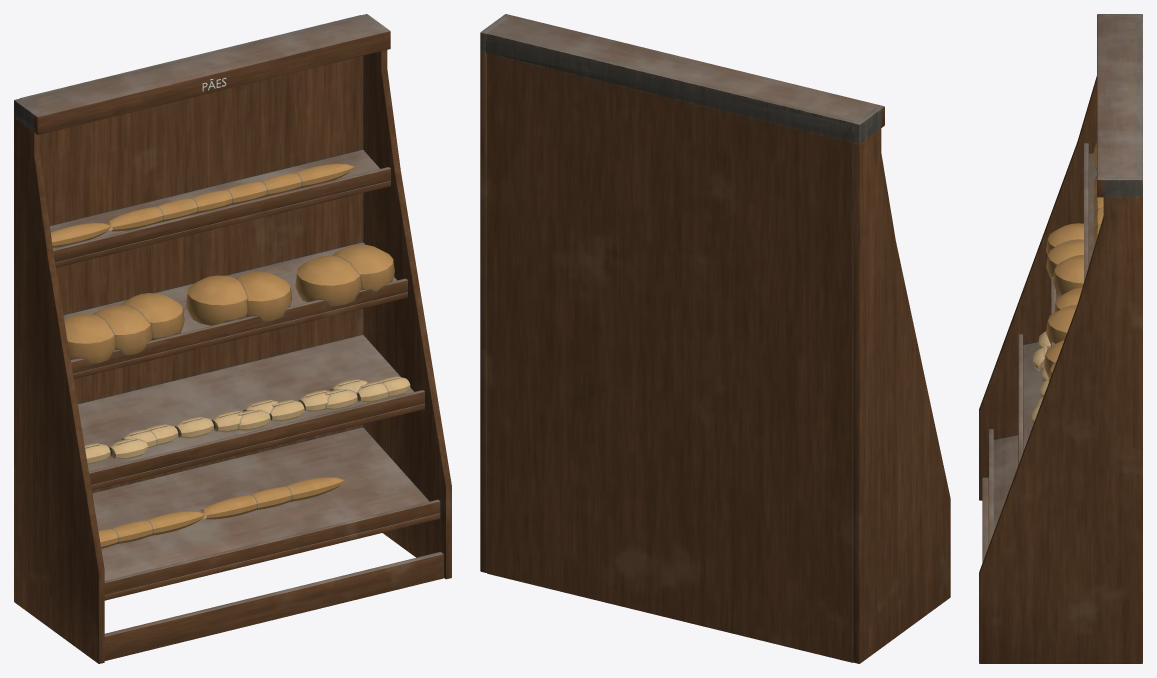
File: prateleira_padaria.glb
3 renders of one model, left to right at view 1: azimuth 30°, elevation 25°; view 2: azimuth 150°, elevation 25°; view 3: azimuth 270°, elevation 25°, orthographic. The views are drawn at different scales.
Visible parts, largest first — view 1: prateleira; view 2: prateleira; view 3: prateleira.
Boxes of the visible parts, bbox=[...] form: prateleira: bbox=[14, 14, 451, 663]; prateleira: bbox=[480, 14, 950, 663]; prateleira: bbox=[979, 14, 1142, 663].
Bounding box in the file's own units: 1.2 × 1.63 × 0.5.
Materials: 1 (1 with a texture image).
